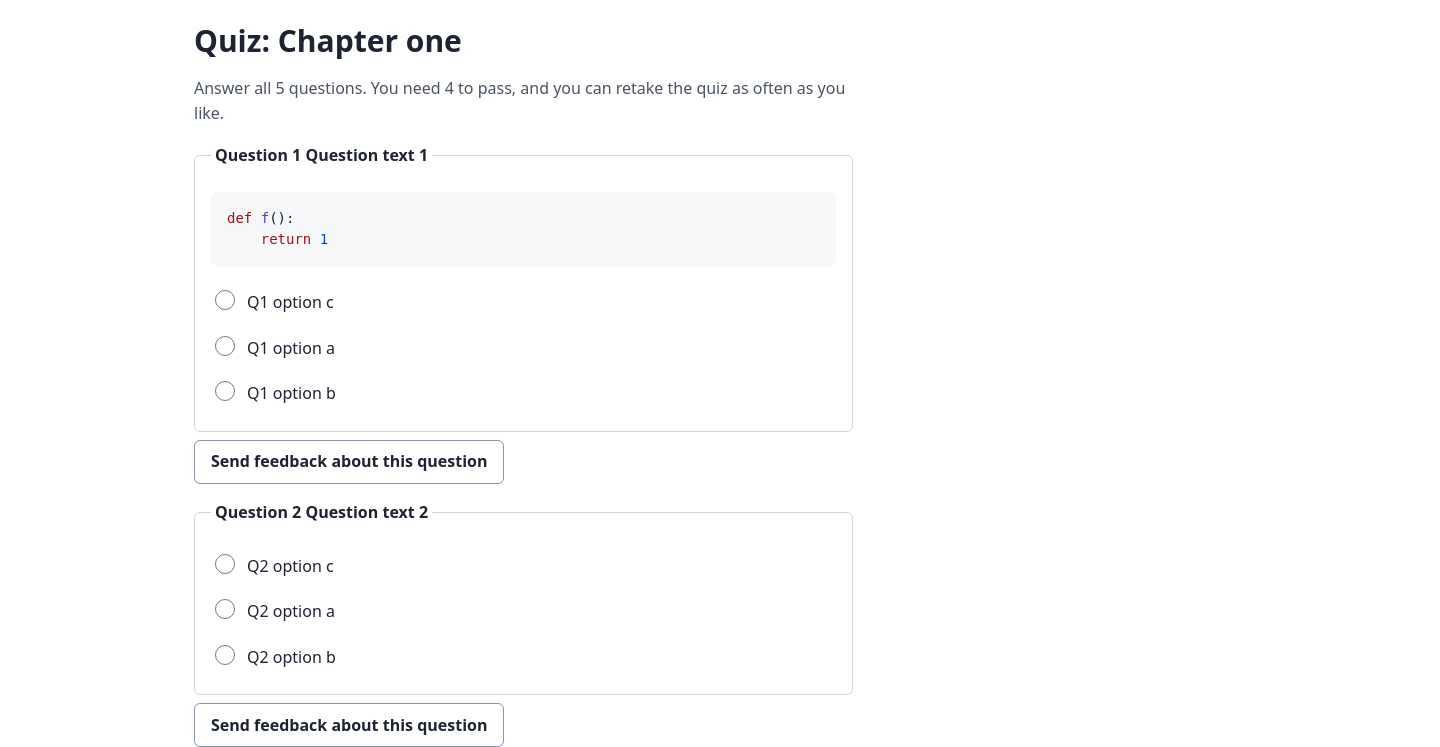
Test case: taking the quiz › sends the answers as one POST: one entry per question, in quiz order, with the ids on screen and no other key
Click the radio button labelled "Q1 option c": (225, 300) x1=215 y1=290 x2=235 y2=310
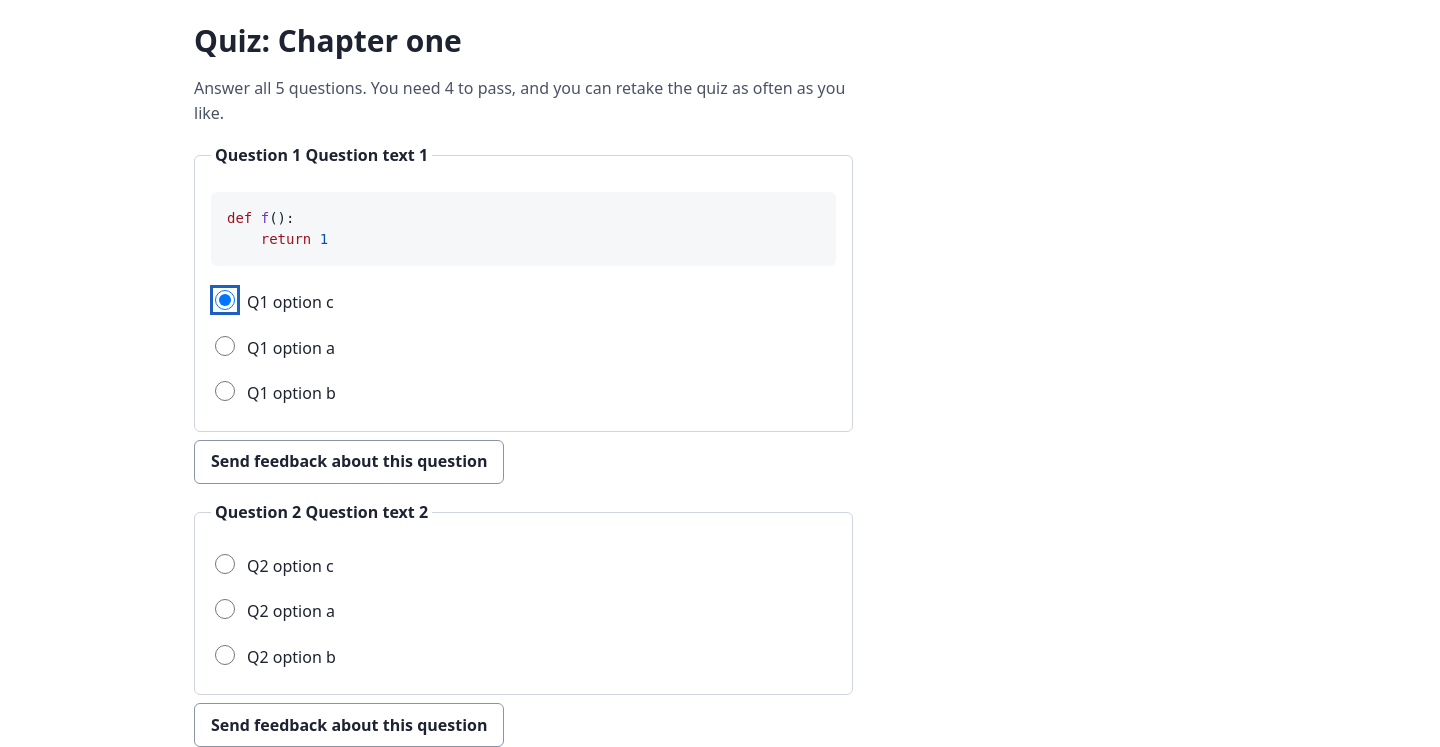
Click the radio button labelled "Q2 option a": (225, 609) x1=215 y1=599 x2=235 y2=619
(page scrolled)
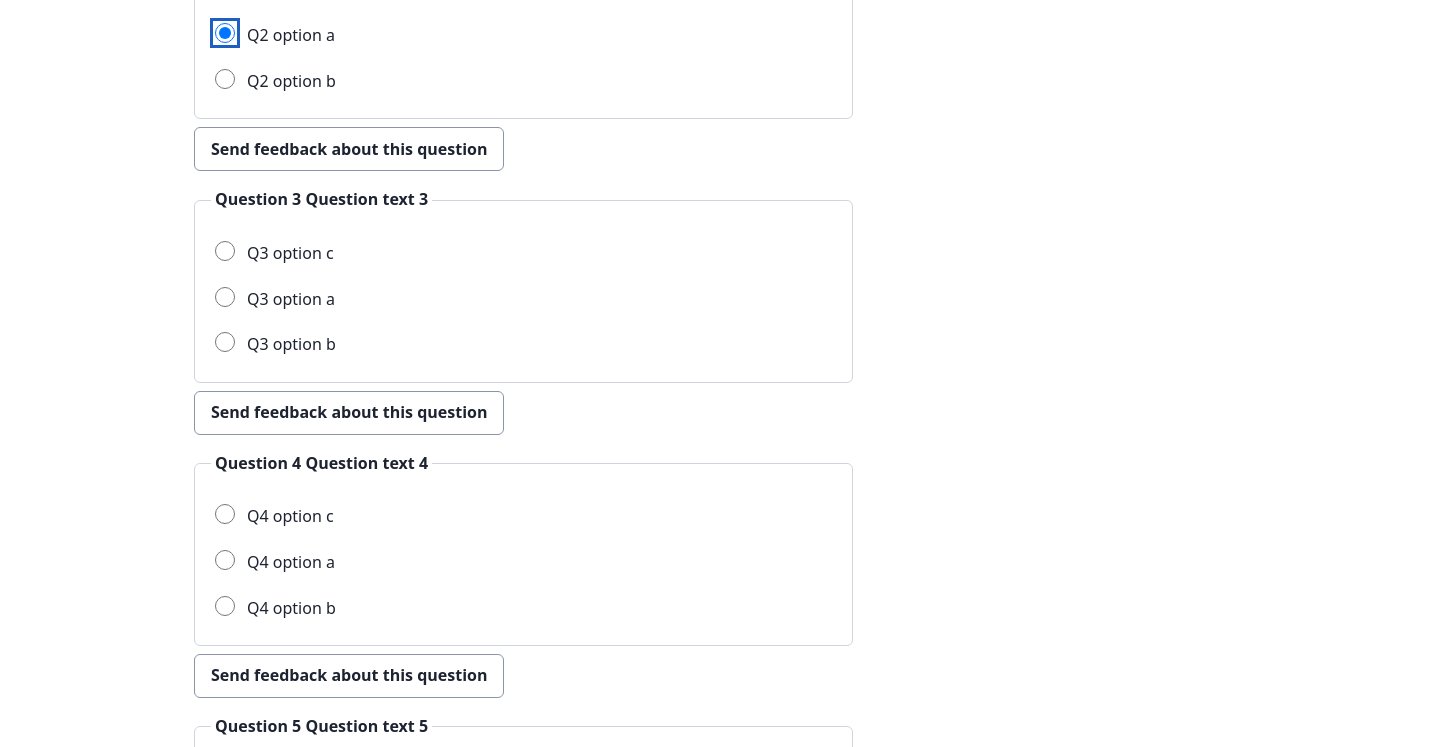
Click the radio button labelled "Q3 option b": (225, 342) x1=215 y1=332 x2=235 y2=352
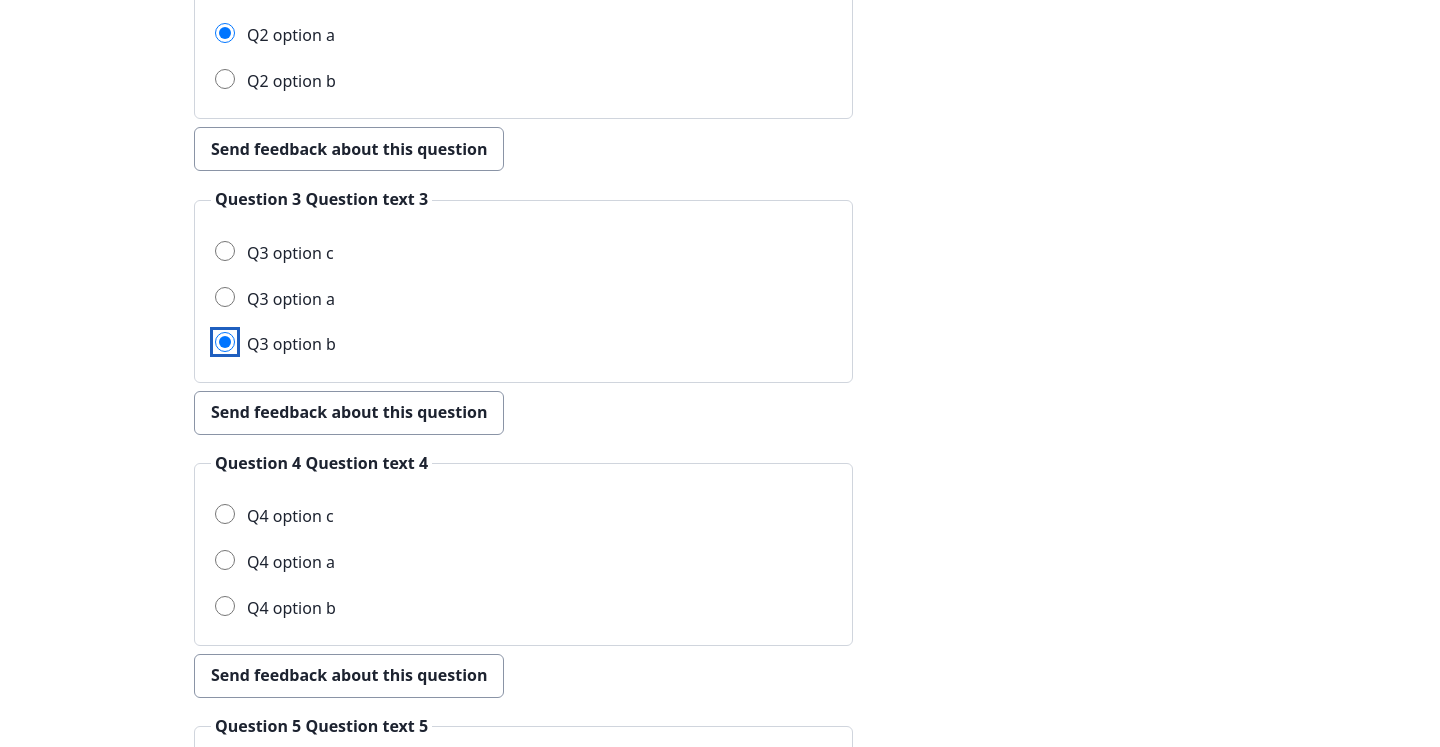
Click the radio button labelled "Q4 option c": (225, 514) x1=215 y1=504 x2=235 y2=524
(page scrolled)
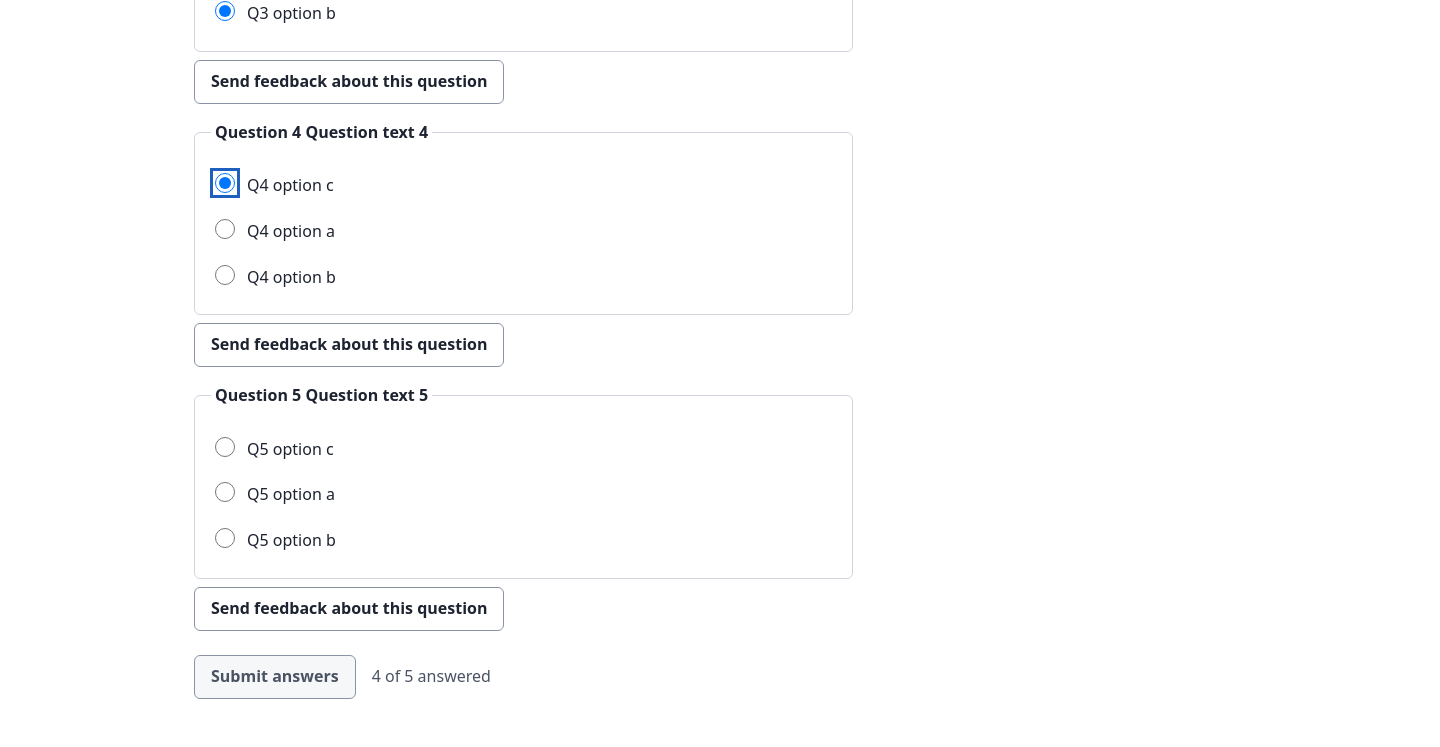
Click the radio button labelled "Q5 option a": (225, 492) x1=215 y1=482 x2=235 y2=502
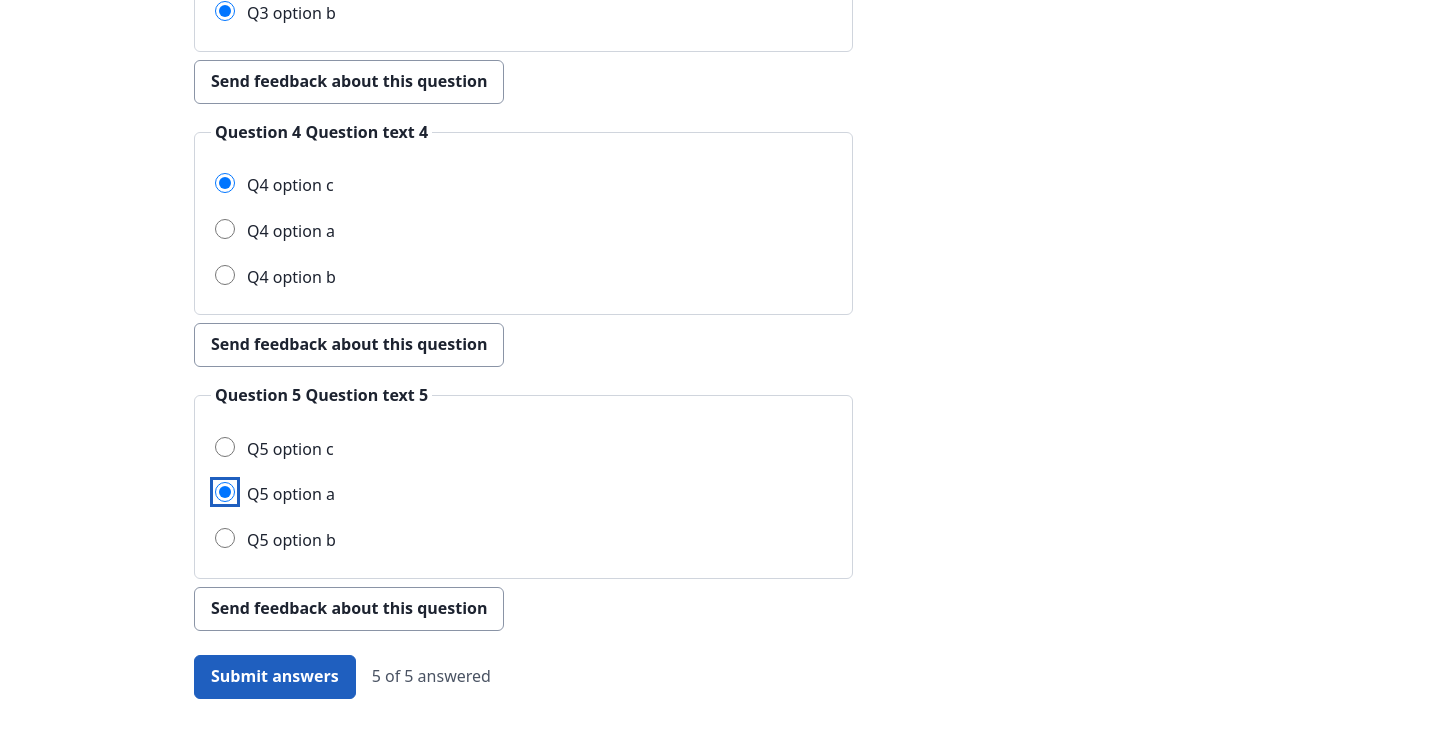
Click the button "Submit answers": (275, 677) x1=194 y1=655 x2=356 y2=699
(page scrolled)
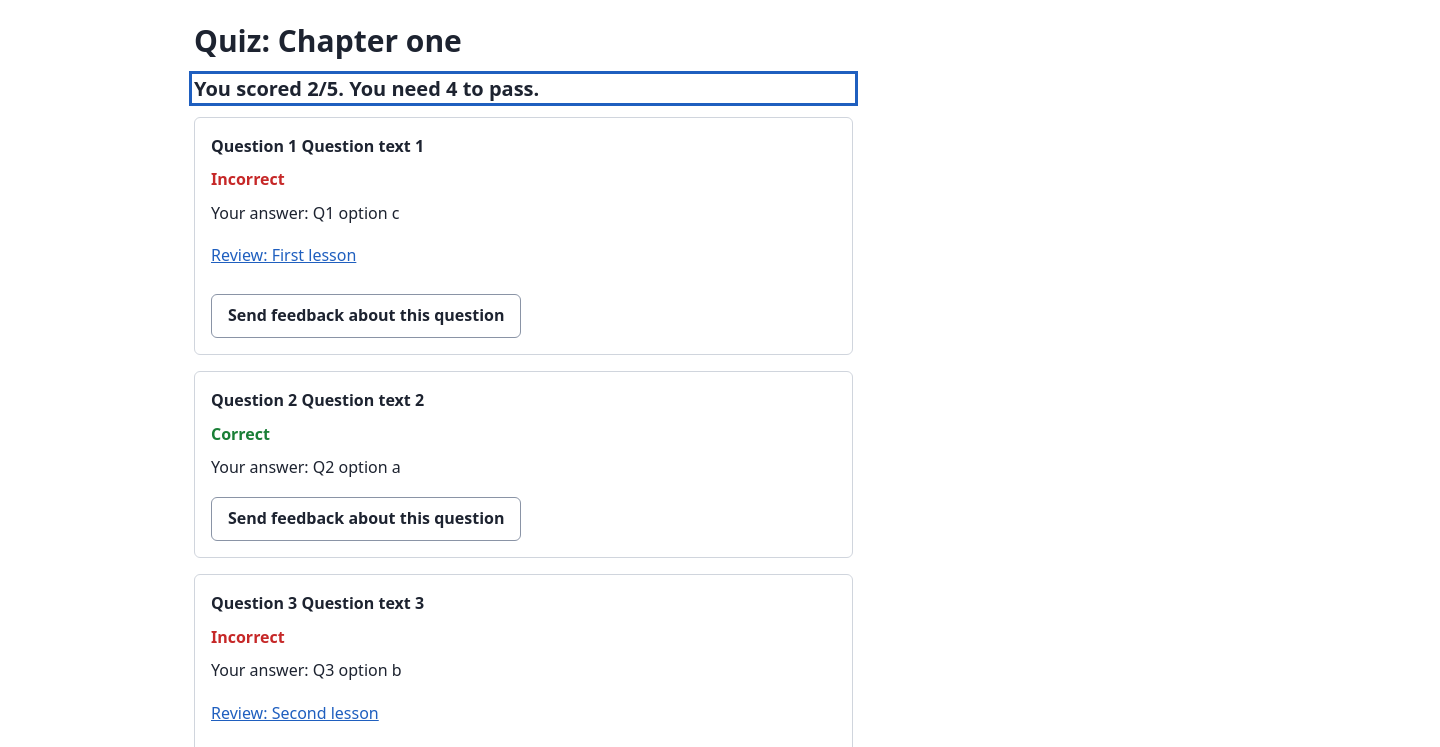
Expected: the heading "You scored 2/5. You need 4 to pass." is shown, x1=194 y1=74 x2=539 y2=102
